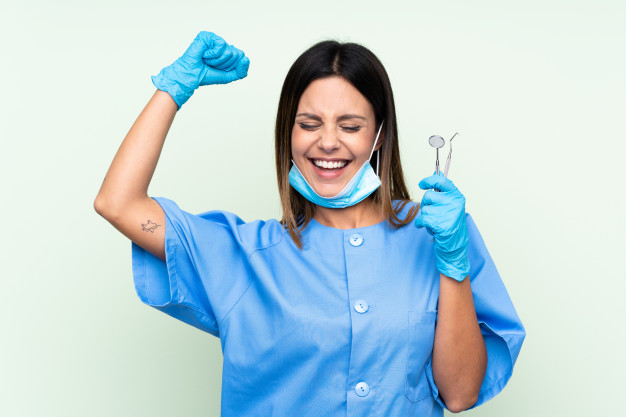mask_weared_incorrect: (286, 86, 385, 214)
